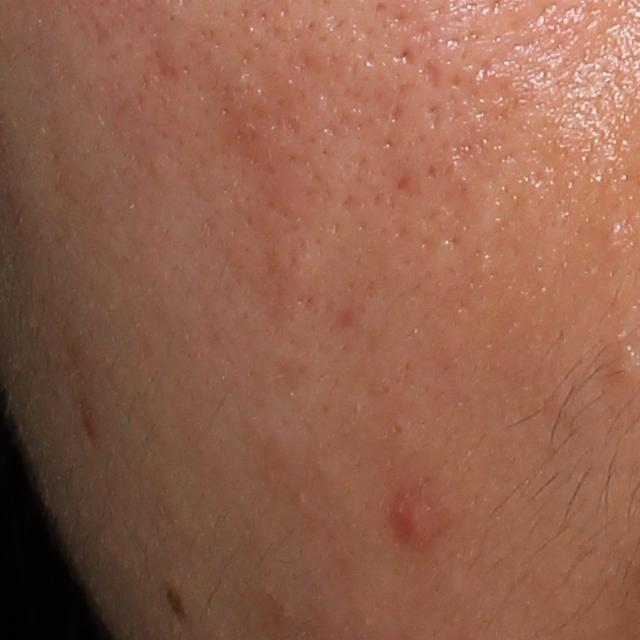atrophic_scar: (419, 58, 445, 91)
nevus: (164, 581, 182, 623)
